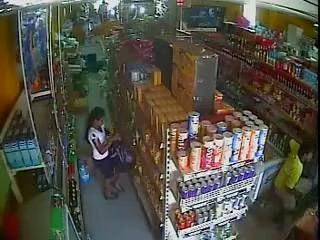shoplifting: (104, 129, 138, 173)
